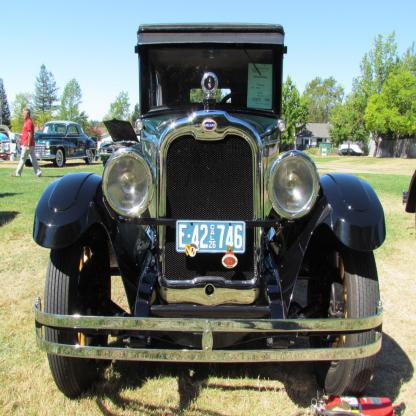car: (32, 23, 384, 399), (24, 121, 96, 169), (99, 118, 143, 166), (1, 130, 12, 159), (338, 147, 366, 156)
